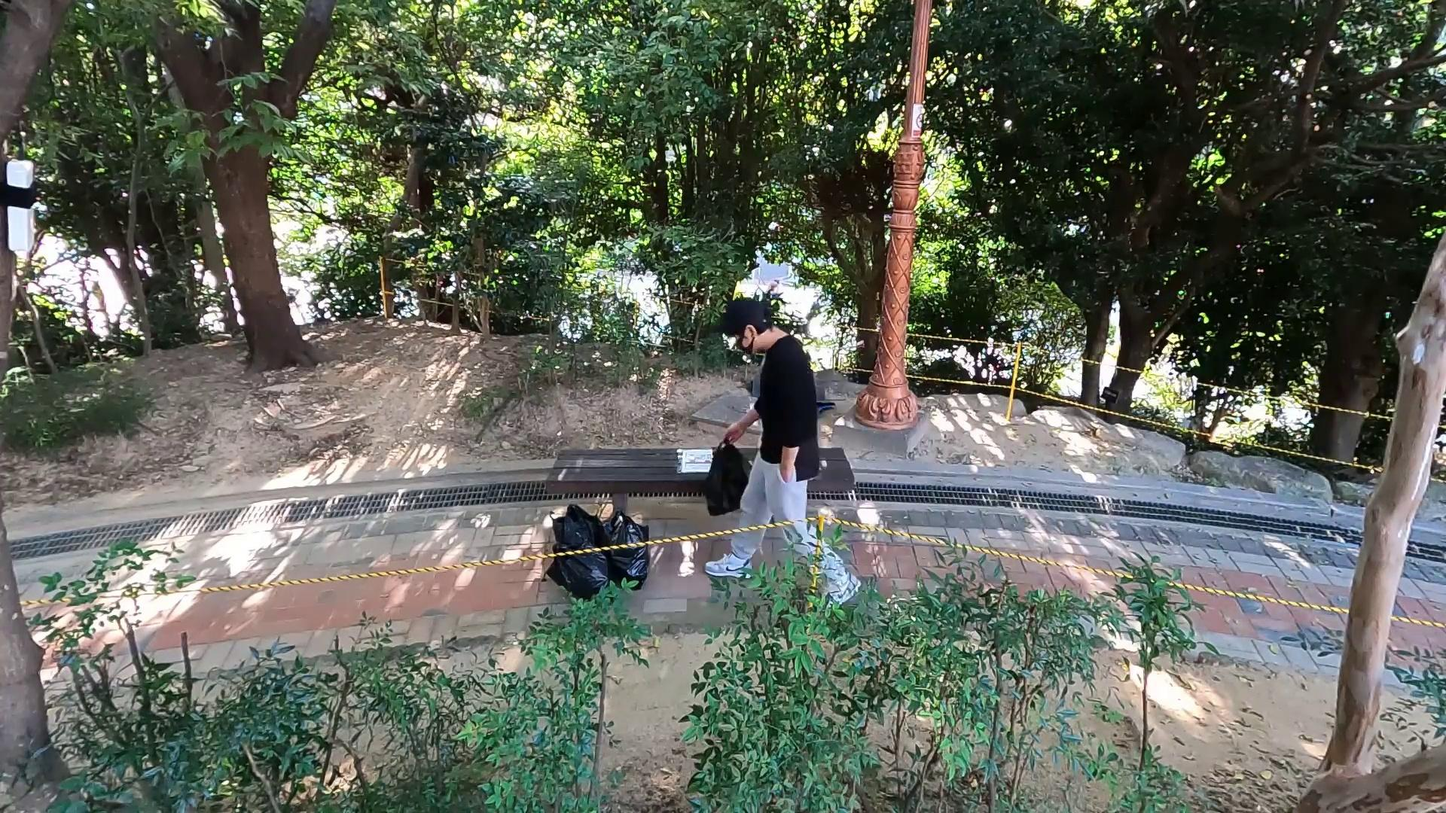person: (695, 302, 870, 602)
trash: (538, 534, 615, 604), (541, 501, 609, 572), (596, 503, 650, 592), (701, 441, 753, 513)
